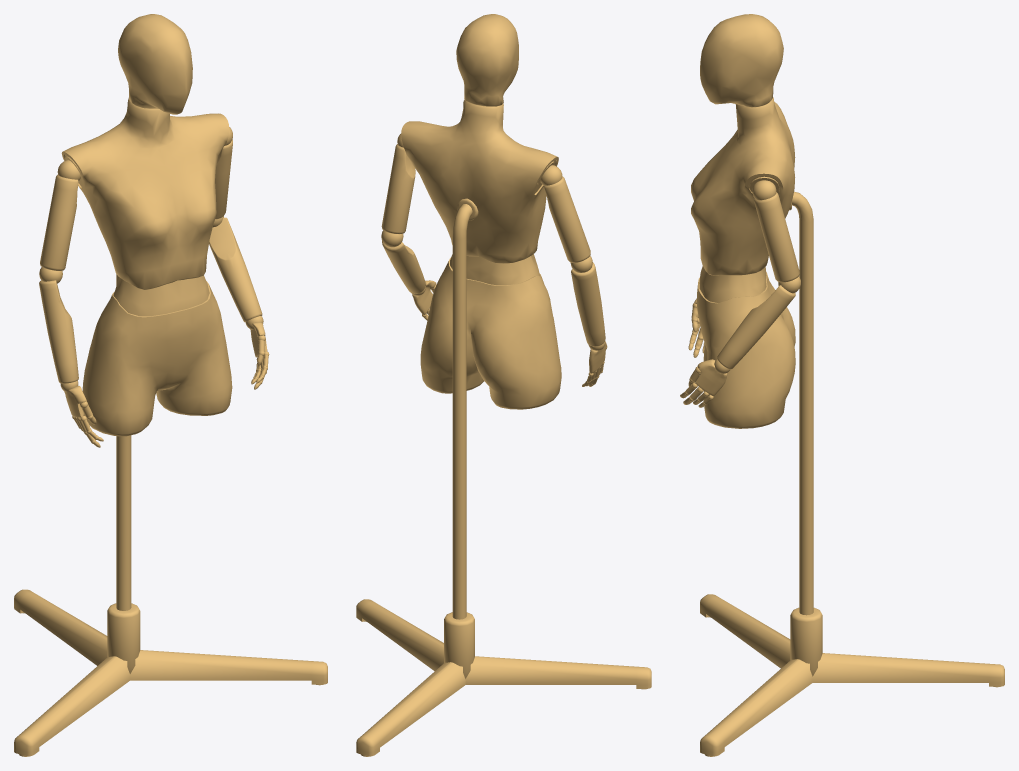
File: Mannequin_1_2.fbx
The picture shows the model from 3 angles, left to right: view 1: azimuth 30°, elevation 25°; view 2: azimuth 150°, elevation 25°; view 3: azimuth 270°, elevation 25°; orthographic projection. The views are drawn at different scales.
Visible parts, largest first — view 1: SM_Mannequin_1_2; view 2: SM_Mannequin_1_2; view 3: SM_Mannequin_1_2.
Part boxes in pixels (x1,y1,x2,y2): SM_Mannequin_1_2: (14, 14, 327, 756); SM_Mannequin_1_2: (356, 14, 651, 756); SM_Mannequin_1_2: (680, 14, 1004, 756).
Size of the model in its own units: 82.09 by 172 by 76.05.
